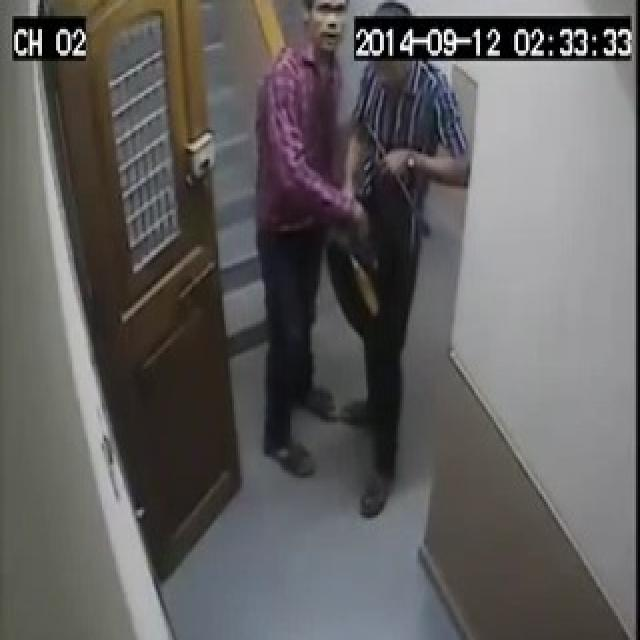thief: (256, 0, 450, 523)
